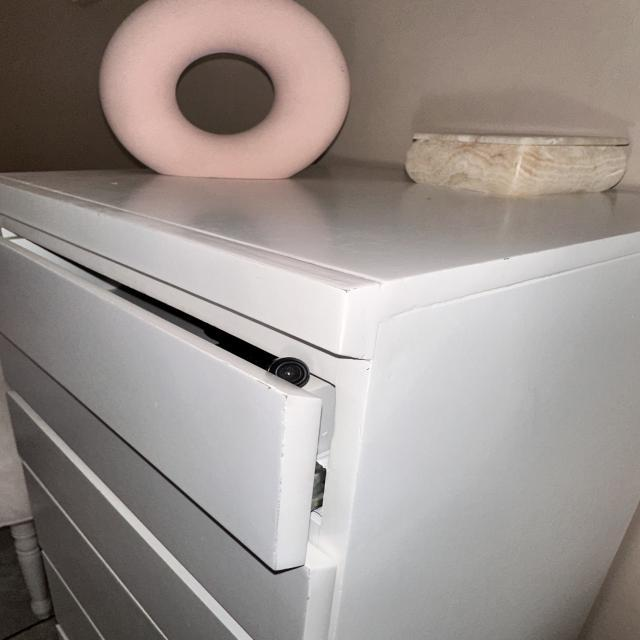hidden camera: (269, 356, 312, 390)
